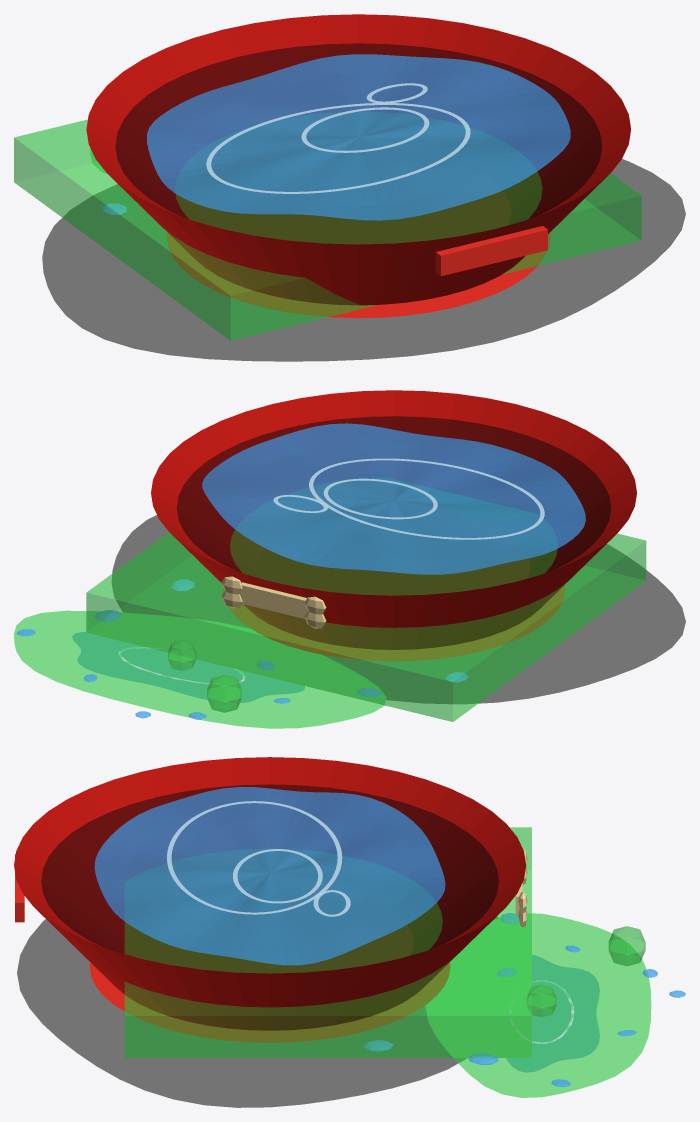
File: dog_water_bowl_full_with_droplets.obj
The picture shows the model from 3 angles, top to bottom: view 1: azimuth 30°, elevation 25°; view 2: azimuth 150°, elevation 25°; view 3: azimuth 270°, elevation 25°; orthographic projection. The views are drawn at different scales.
Visible parts, largest first — view 1: Transparent_water_surface_slightly_rippled, Dog_water_bowl_inner_dark_red_wall, Subtle_water_bowl_floor_shadow, Guide_Water_Source_delete_or_hide, Dog_water_bowl_inner_bottom_disk, Dog_water_bowl_thick_rounded_top_rim, Dog_water_bowl_outer_red_plastic_shell, Dog_water_bowl_bottom_foot_ring, Bowl_back_small_handle_tab, Water_surface_ripple_ring_wide, Water_surface_ripple_ring_center; view 2: Guide_Water_Source_delete_or_hide, Transparent_water_surface_slightly_rippled, Dog_water_bowl_inner_dark_red_wall, Subtle_water_bowl_floor_shadow, Guide_Water_Splash_Area_delete_or_hide, Dog_water_bowl_inner_bottom_disk, Dog_water_bowl_thick_rounded_top_rim, Dog_water_bowl_outer_red_plastic_shell, Small_spilled_water_puddle_front, Dog_water_bowl_bottom_foot_ring, Water_surface_ripple_ring_wide, Bowl_front_label_small_bone_center (+3 smaller); view 3: Transparent_water_surface_slightly_rippled, Dog_water_bowl_inner_dark_red_wall, Guide_Water_Source_delete_or_hide, Guide_Water_Splash_Area_delete_or_hide, Subtle_water_bowl_floor_shadow, Dog_water_bowl_inner_bottom_disk, Dog_water_bowl_thick_rounded_top_rim, Dog_water_bowl_outer_red_plastic_shell, Small_spilled_water_puddle_front, Dog_water_bowl_bottom_foot_ring, Water_surface_ripple_ring_wide, Guide_Interaction_Point_DrinkOrSniff (+2 smaller).
Boxes of the visible parts, bbox=[...] form: Transparent_water_surface_slightly_rippled: bbox=[147, 54, 570, 220]; Dog_water_bowl_inner_dark_red_wall: bbox=[115, 43, 602, 225]; Subtle_water_bowl_floor_shadow: bbox=[42, 159, 685, 361]; Guide_Water_Source_delete_or_hide: bbox=[14, 119, 641, 340]; Dog_water_bowl_inner_bottom_disk: bbox=[206, 148, 511, 244]; Dog_water_bowl_thick_rounded_top_rim: bbox=[86, 14, 630, 215]; Dog_water_bowl_outer_red_plastic_shell: bbox=[109, 175, 608, 305]; Dog_water_bowl_bottom_foot_ring: bbox=[167, 233, 550, 318]; Bowl_back_small_handle_tab: bbox=[435, 226, 547, 276]; Water_surface_ripple_ring_wide: bbox=[206, 103, 470, 193]; Water_surface_ripple_ring_center: bbox=[301, 107, 429, 152]; Guide_Water_Source_delete_or_hide: bbox=[86, 478, 646, 721]; Transparent_water_surface_slightly_rippled: bbox=[202, 423, 585, 574]; Dog_water_bowl_inner_dark_red_wall: bbox=[176, 416, 611, 578]; Subtle_water_bowl_floor_shadow: bbox=[112, 515, 685, 703]; Guide_Water_Splash_Area_delete_or_hide: bbox=[14, 610, 385, 728]; Dog_water_bowl_inner_bottom_disk: bbox=[257, 509, 530, 595]; Dog_water_bowl_thick_rounded_top_rim: bbox=[151, 390, 636, 569]; Dog_water_bowl_outer_red_plastic_shell: bbox=[171, 534, 616, 649]; Small_spilled_water_puddle_front: bbox=[72, 632, 304, 702]; Dog_water_bowl_bottom_foot_ring: bbox=[223, 585, 564, 660]; Water_surface_ripple_ring_wide: bbox=[309, 458, 544, 539]; Bowl_front_label_small_bone_center: bbox=[240, 582, 307, 618]; Transparent_water_surface_slightly_rippled: bbox=[94, 787, 445, 965]; Dog_water_bowl_inner_dark_red_wall: bbox=[41, 784, 498, 955]; Guide_Water_Source_delete_or_hide: bbox=[124, 827, 531, 1057]; Guide_Water_Splash_Area_delete_or_hide: bbox=[426, 913, 651, 1097]; Subtle_water_bowl_floor_shadow: bbox=[17, 916, 497, 1107]; Dog_water_bowl_inner_bottom_disk: bbox=[126, 882, 413, 973]; Dog_water_bowl_thick_rounded_top_rim: bbox=[14, 757, 525, 946]; Dog_water_bowl_outer_red_plastic_shell: bbox=[35, 907, 505, 1030]; Small_spilled_water_puddle_front: bbox=[506, 955, 599, 1072]; Dog_water_bowl_bottom_foot_ring: bbox=[89, 962, 449, 1042]; Water_surface_ripple_ring_wide: bbox=[167, 801, 342, 914]; Guide_Interaction_Point_DrinkOrSniff: bbox=[608, 926, 645, 965].
Size of what is drawn, in the model's own units: 1.65 by 0.31 by 1.73.
